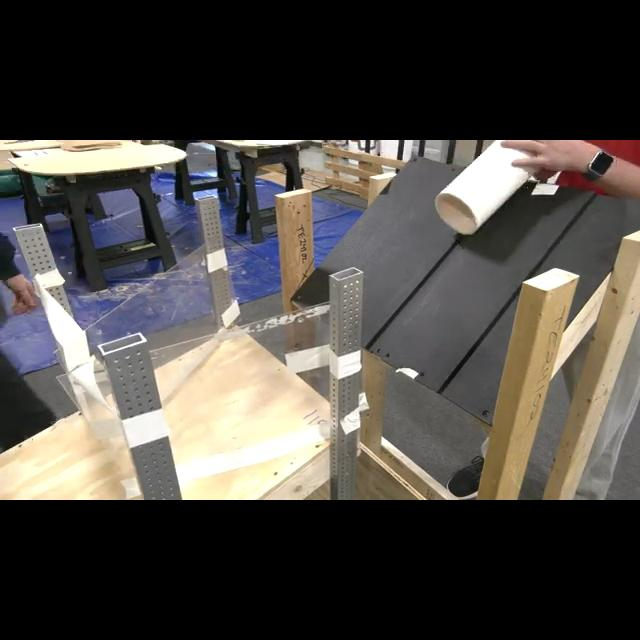CORAL: (432, 140, 540, 236)
